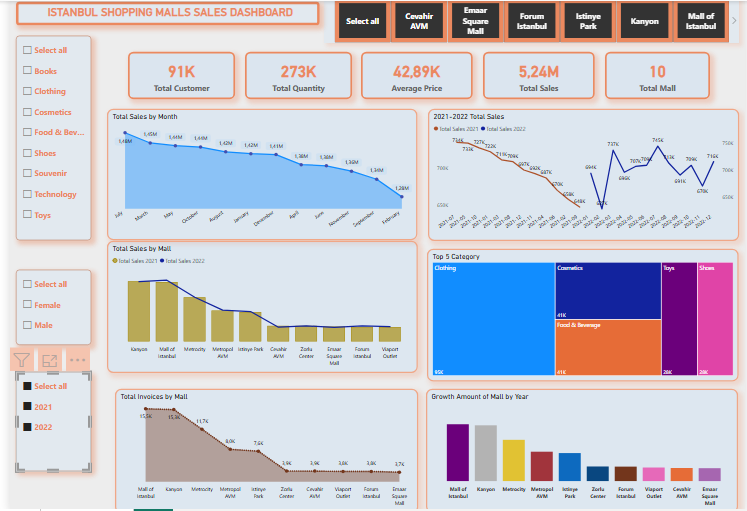

This screenshot's page, from the dashboard's own definition file:
{"tool":"powerbi","page":{"name":"Sales ","canvas":[1750,1230],"ordinal":0},"visuals":[{"type":"textbox","title":"ISTANBUL SHOPPING MALLS SALES DASHBOARD","box":[14,14,722.8,56.1],"z":0},{"type":"card","fields":{"Values":["customer_shopping_data.Total Quantity"]},"box":[560.5,134.2,255.3,113.2],"z":1000},{"type":"card","fields":{"Values":["Count(customer_shopping_data.customer_id)"]},"box":[281.6,134.2,255.3,113.2],"z":2000},{"type":"card","fields":{"Values":["Avg(customer_shopping_data.price)"]},"box":[836.8,134.2,265.8,113.2],"z":3000},{"type":"card","fields":{"Values":["Sum(customer_shopping_data.corrected_price)"]},"box":[1126.3,134.2,265.8,113.2],"z":4000},{"type":"card","fields":{"Values":["Count(customer_shopping_data.shopping_mall)"]},"box":[1415.8,134.2,250,113.2],"z":5000},{"type":"slicer","fields":{"Values":["customer_shopping_data.category"]},"box":[13.2,94.7,178.9,486.8],"z":6000},{"type":"slicer","fields":{"Values":["customer_shopping_data.gender"]},"box":[13.5,651.9,178.8,178.8],"z":7000},{"type":"slicer","fields":{"Values":["customer_shopping_data.shopping_mall"]},"box":[746.9,0,987.8,112.2],"z":8000},{"type":"areaChart","title":"Total Sales by Month","fields":{"Category":["Calendar.Month"],"Y":["customer_shopping_data.Total Sales1"]},"box":[231.6,268.4,739.5,313.2],"z":9000},{"type":"slicer","fields":{"Values":["Calendar.Year"]},"box":[13.5,896.2,178.8,236.5],"z":10000},{"type":"lineChart","title":"2021-2022 Total Sales ","fields":{"Y":["customer_shopping_data.Total Sales 2021"],"Y2":["customer_shopping_data.Total Sales 2022"],"Category":["Calendar.Year-Month"]},"box":[994.4,268.5,740.7,314.8],"z":11000},{"type":"lineClusteredColumnComboChart","title":"Total Sales by Mall","fields":{"Category":["customer_shopping_data.shopping_mall"],"Y":["customer_shopping_data.Total Sales 2021"],"Y2":["customer_shopping_data.Total Sales 2022"]},"box":[230,583.3,740,315],"z":12000},{"type":"treemap","title":"Top 5 Category","fields":{"Group":["customer_shopping_data.category"],"Values":["customer_shopping_data.Total Quantity"]},"box":[993.3,602.2,742.2,315.6],"z":13000},{"type":"lineChart","title":"Total Invoices by Mall","fields":{"Category":["customer_shopping_data.shopping_mall"],"Y":["customer_shopping_data.Total Invoices"]},"box":[251.1,935.6,722.2,295.6],"z":14000},{"type":"columnChart","title":"Growth Amount of Mall by Year","fields":{"Category":["customer_shopping_data.shopping_mall"],"Y":["customer_shopping_data.YoY Growth %"]},"box":[990.5,935.7,742.9,295.2],"z":15000}]}

Visuals, with their boxes in screenshot pixels (x1, y1, x2, y2), scaled from the page's 1750x1230 canvas onto the 747x511 screenshot:
"ISTANBUL SHOPPING MALLS SALES DASHBOARD" textbox: (6, 6, 315, 29)
card - customer_shopping_data.Total Quantity: (239, 56, 348, 103)
card - Count(customer_shopping_data.customer_id): (120, 56, 229, 103)
card - Avg(customer_shopping_data.price): (357, 56, 471, 103)
card - Sum(customer_shopping_data.corrected_price): (481, 56, 594, 103)
card - Count(customer_shopping_data.shopping_mall): (604, 56, 711, 103)
slicer - customer_shopping_data.category: (6, 39, 82, 242)
slicer - customer_shopping_data.gender: (6, 271, 82, 345)
slicer - customer_shopping_data.shopping_mall: (319, 0, 740, 47)
"Total Sales by Month" areaChart: (99, 112, 415, 242)
slicer - Calendar.Year: (6, 372, 82, 471)
"2021-2022 Total Sales " lineChart: (424, 112, 741, 242)
"Total Sales by Mall" lineClusteredColumnComboChart: (98, 242, 414, 373)
"Top 5 Category" treemap: (424, 250, 741, 381)
"Total Invoices by Mall" lineChart: (107, 389, 415, 510)
"Growth Amount of Mall by Year" columnChart: (423, 389, 740, 510)
